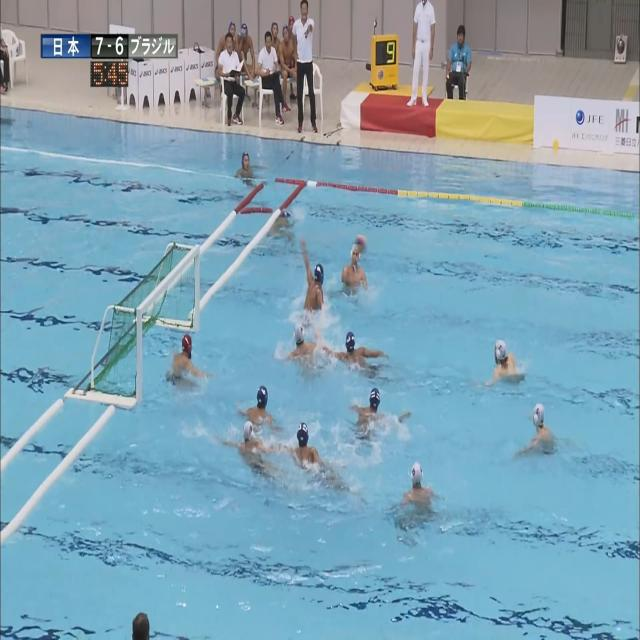ball: (356, 234, 366, 253)
